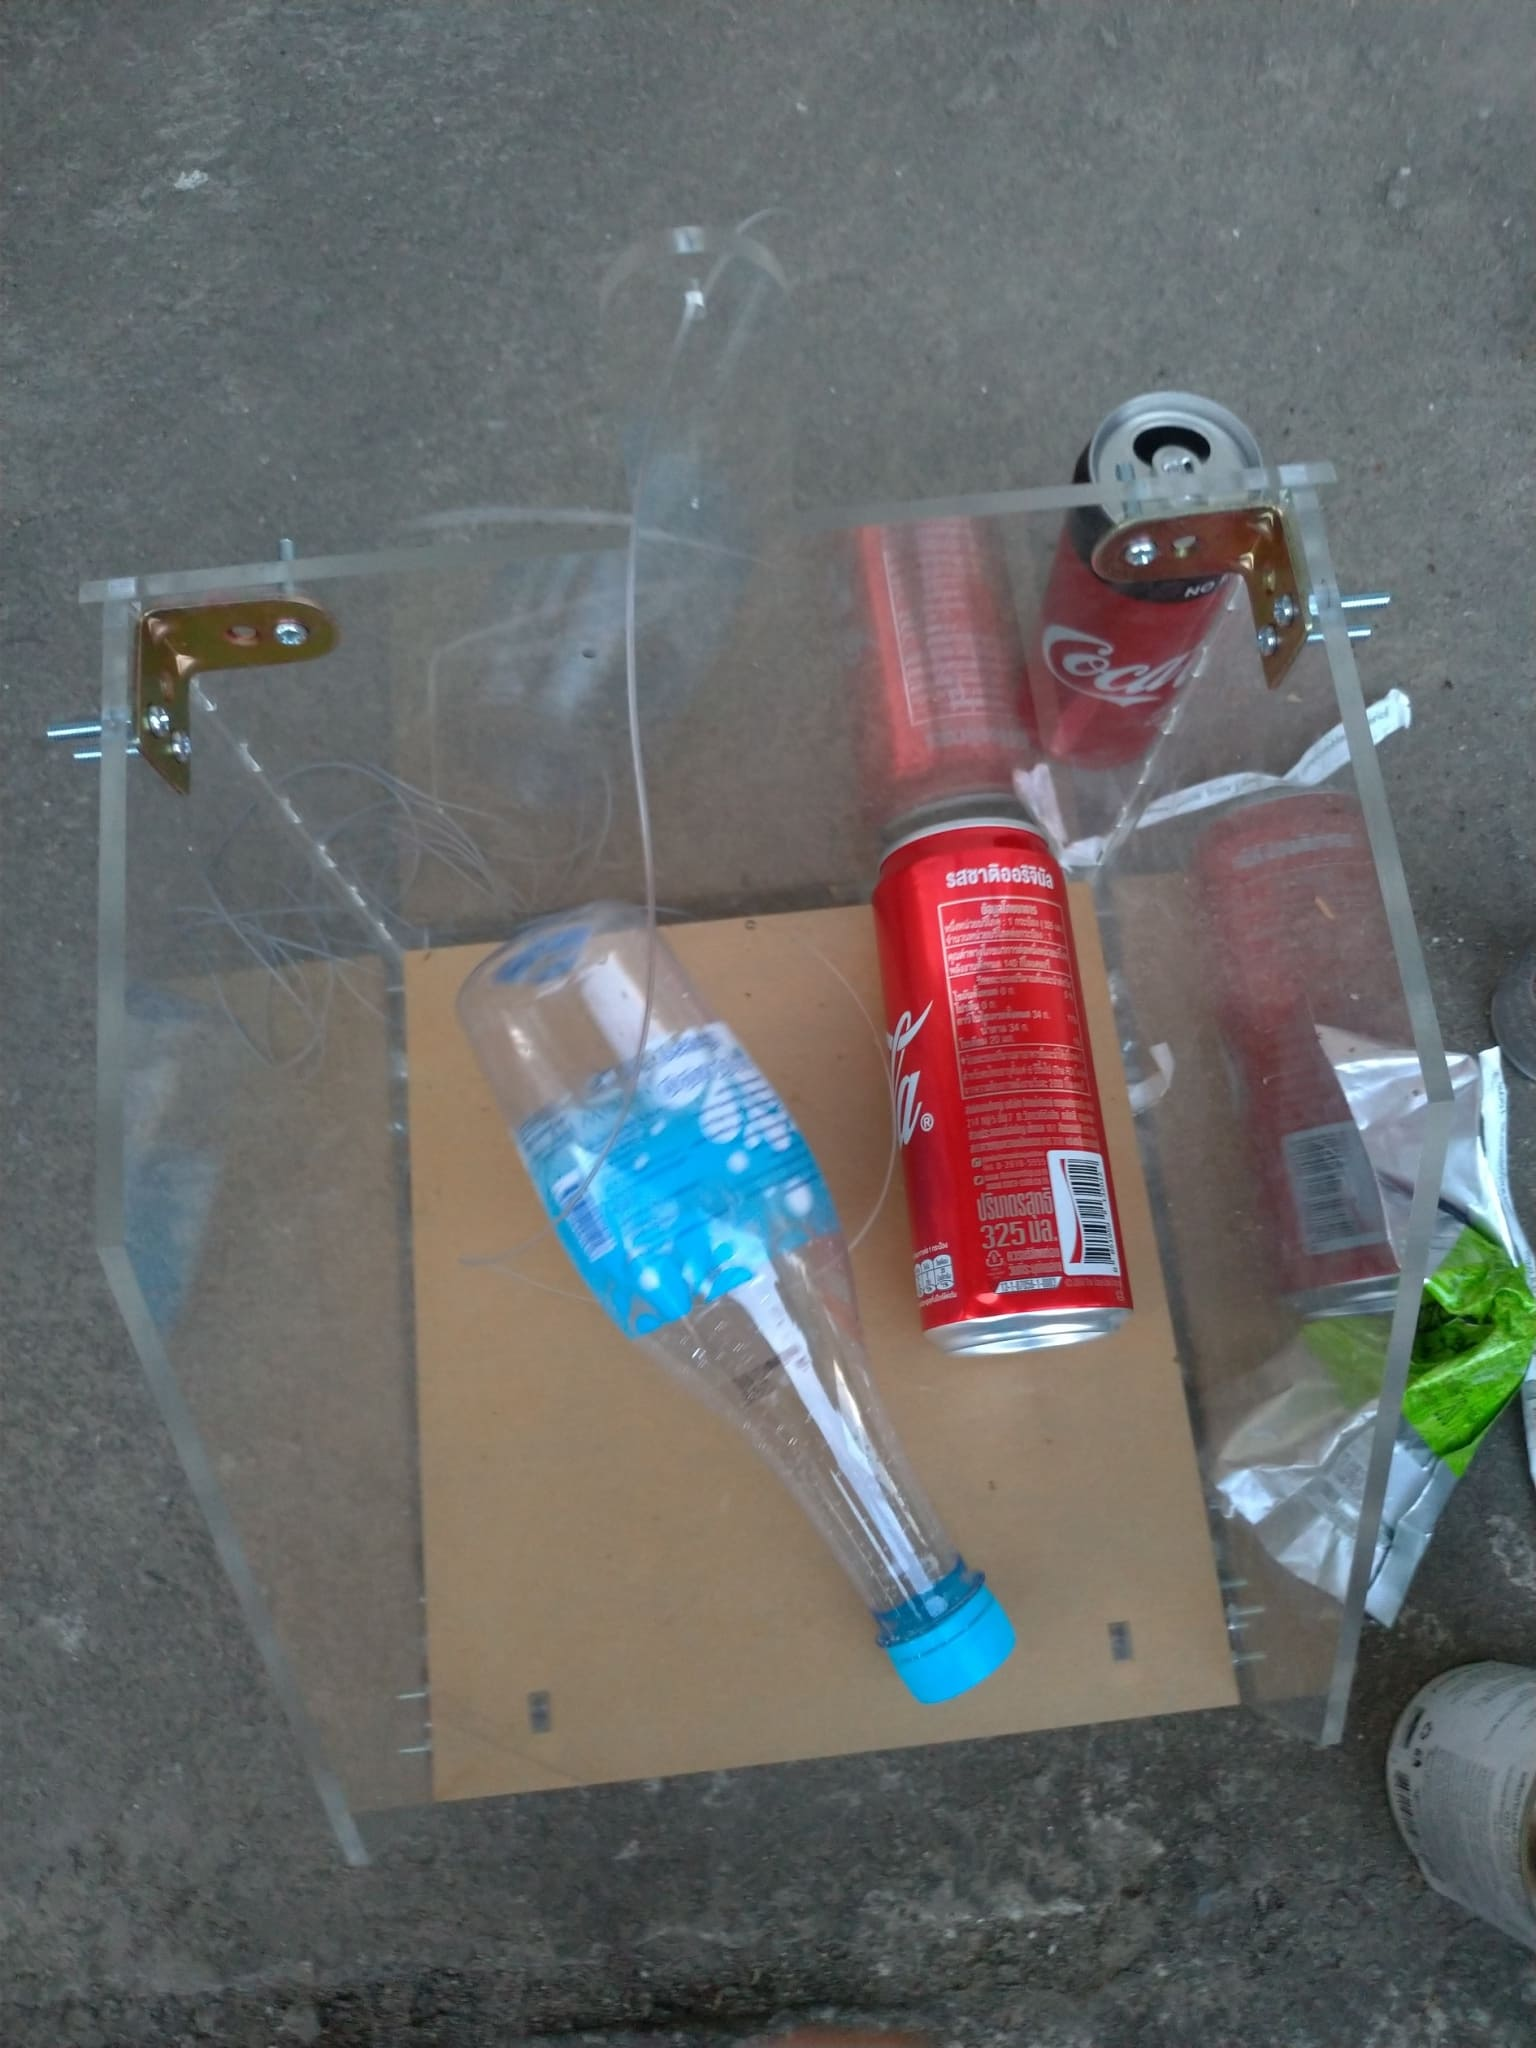AlCan: (874, 822, 1141, 1358), (1025, 392, 1271, 768), (1384, 1661, 1536, 1943)
Others: (1210, 1011, 1536, 1621)
PlasticBottle: (460, 895, 1021, 1701)
